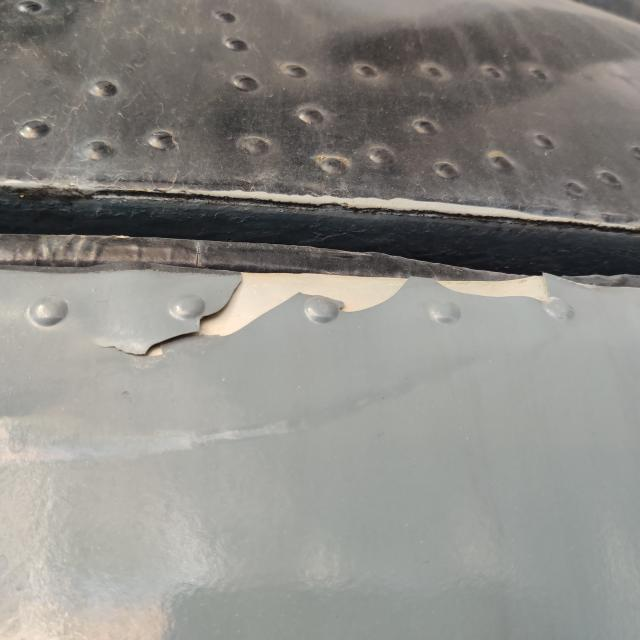paint-off: (81, 250, 568, 394)
